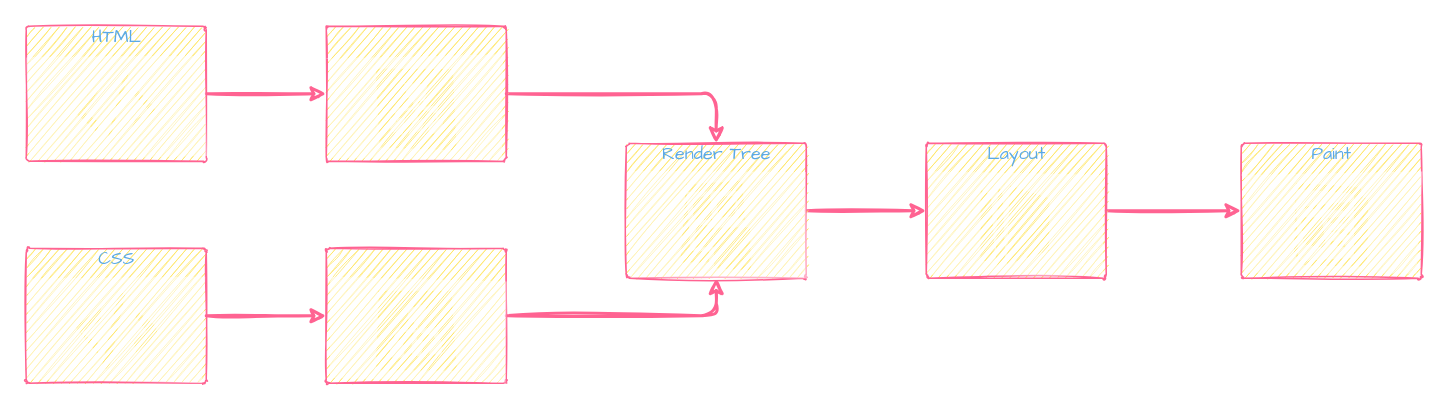
Some shapes in this 1448 by 410 pixel diagram are drawn without their labels. The shapes that lost their labels are listed below. From the top down, each one's centre as x and y in pixels, then its label:
the point at 415,93: DOM
the point at 415,315: CSSOM
